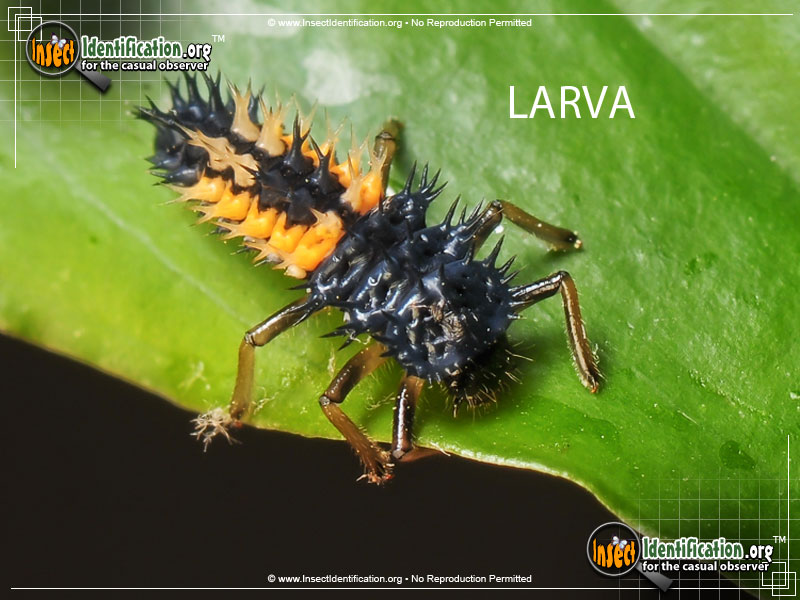Asian Multicolored Lady Beetle: (115, 77, 621, 464)
